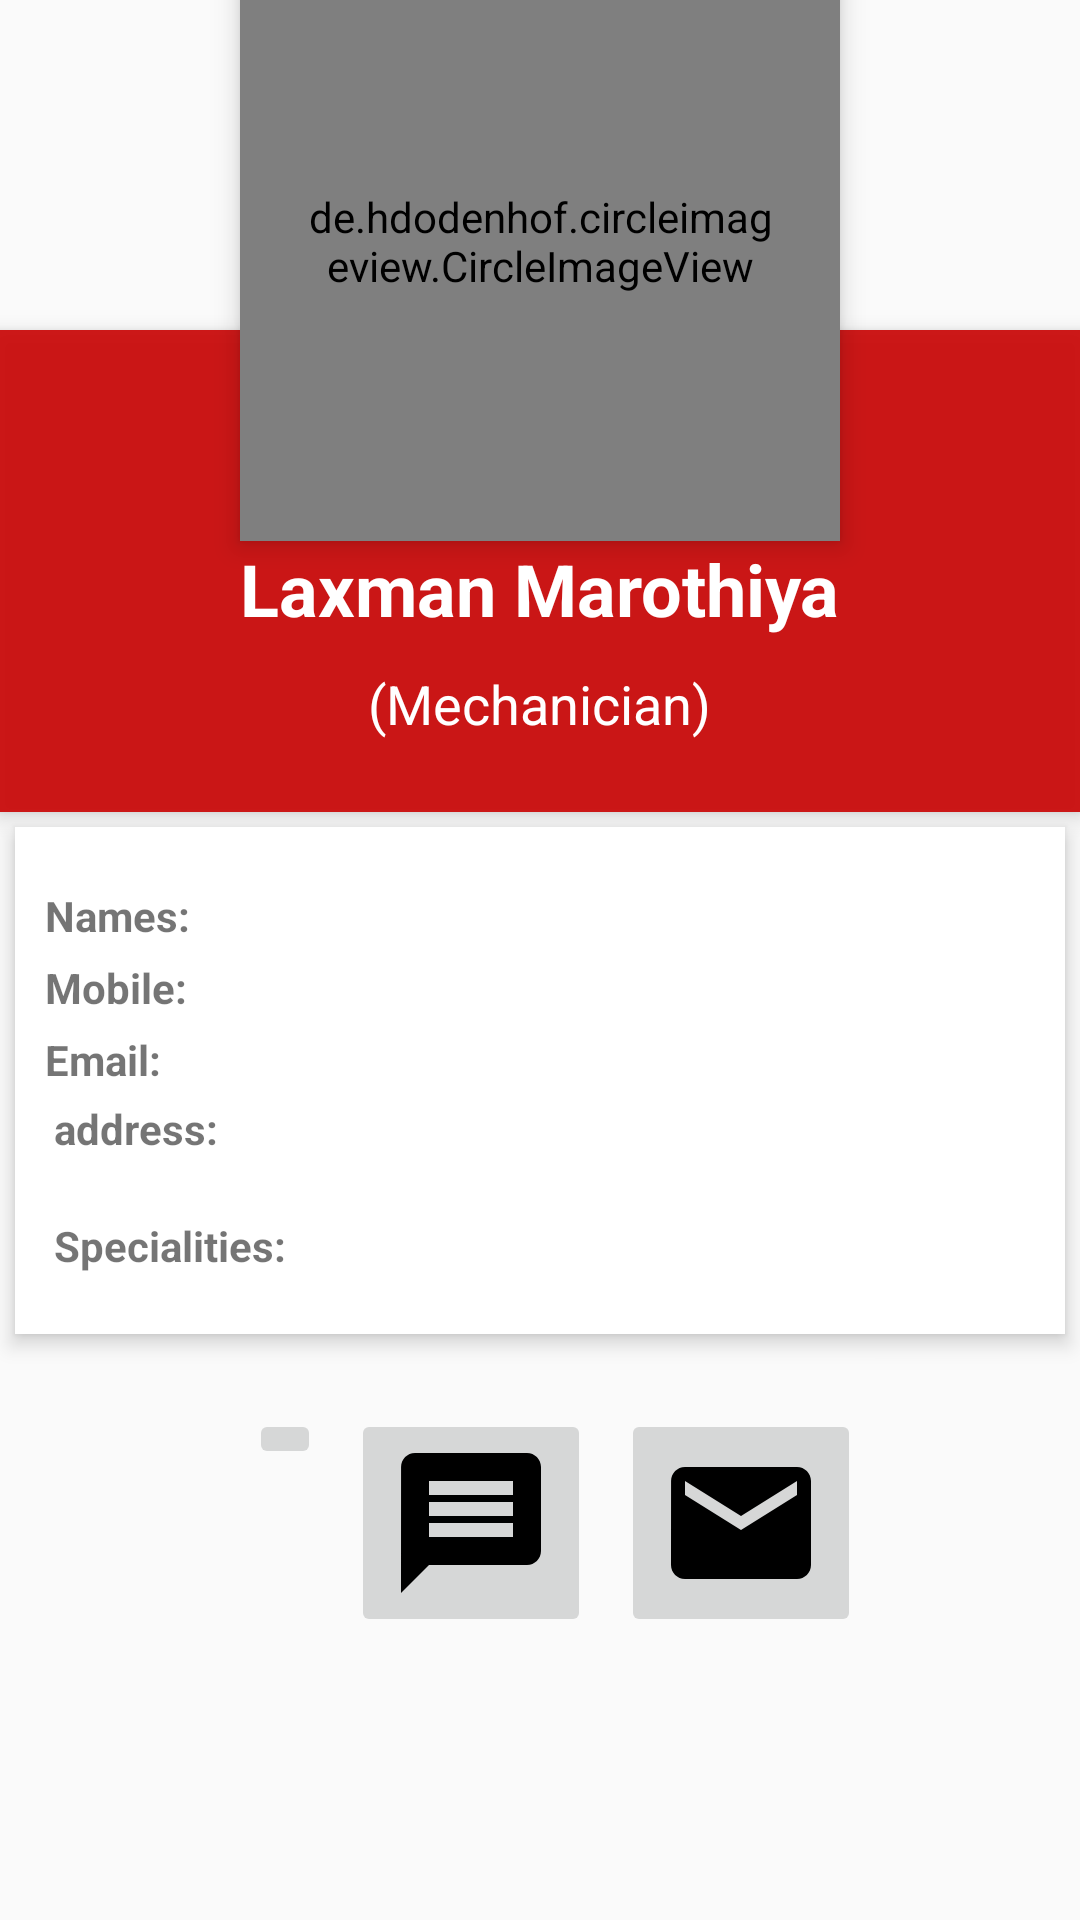

Screen size 1080px x 1920px. Icon name, then its box in pixels as BBox(x1, y1, x2, y2):
email: BBox(633, 1427, 849, 1619)
message: BBox(363, 1427, 579, 1619)
